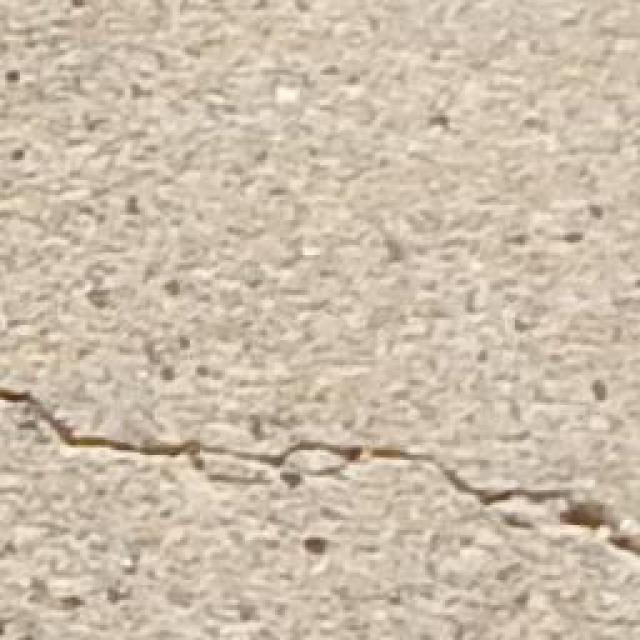concrete-crack: (0, 388, 640, 560)
